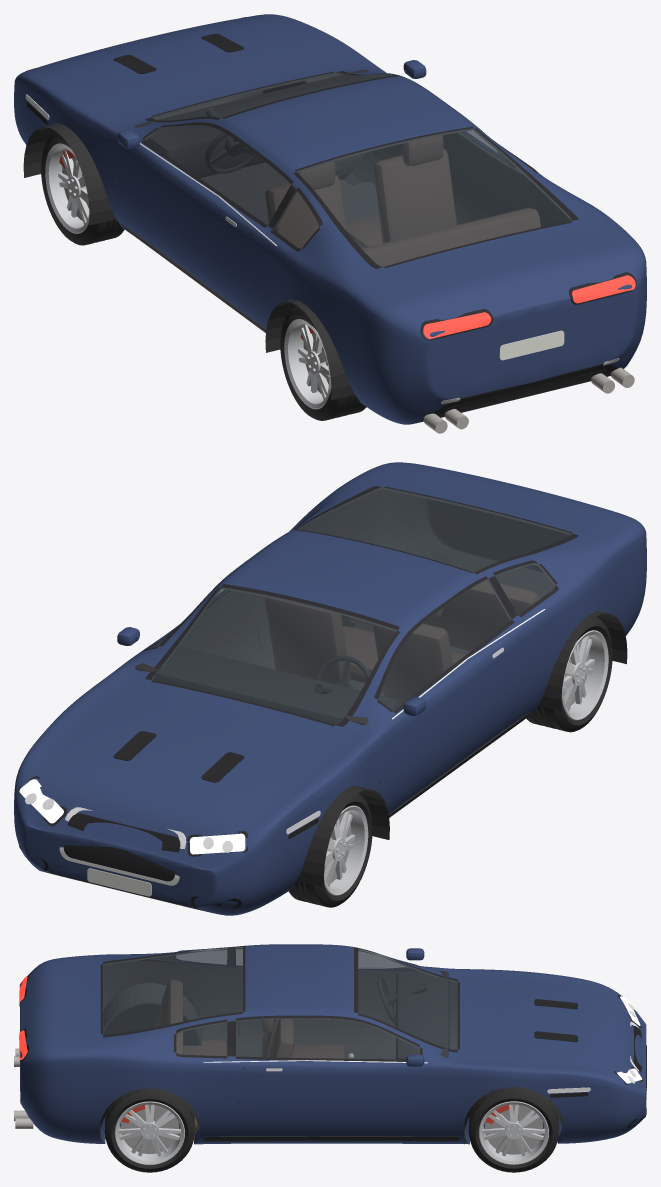
Rendered from 05_meridian_gt.glb.
3 views of the same model, one above another, from view 1: azimuth 30°, elevation 25°; view 2: azimuth 150°, elevation 25°; view 3: azimuth 270°, elevation 25° (orthographic). The views are drawn at different scales.
Visible parts, largest first — view 1: Body.010, Glass.010, Interior.010, Interior_Shell.009, ArchLiners.009, Wheel_RL.010, Wheel_FL.010, Lights_Tail.010, Diffuser.002, Plate_Rear.009, SteeringWheel.010, Lights_Tail_Housing.008 (+4 smaller); view 2: Body.010, Glass.010, Interior.010, Interior_Shell.009, ArchLiners.009, Wheel_RL.010, Wheel_FL.010, Grille_Main.002, Lights_Head.010, Plate_Front.006, Grille_Surround.001, SteeringWheel.010 (+3 smaller); view 3: Body.010, Glass.010, Interior_Shell.009, Interior.010, Wheel_RR.010, Wheel_FR.010, ArchLiners.009, SideSkirt.003, SteeringWheel.010, Mirror_Housing.009, Lights_Head.010, Lights_Tail.010.
Part boxes in pixels (x1,y1,x2,y2): Body.010: (14,14,646,424); Glass.010: (144,72,571,266); Interior.010: (135,70,540,266); Interior_Shell.009: (144,72,571,229); ArchLiners.009: (23,81,354,400); Wheel_RL.010: (280,306,366,420); Wheel_FL.010: (41,131,124,245); Lights_Tail.010: (423,275,635,338); Diffuser.002: (440,369,606,417); Plate_Rear.009: (499,330,564,360); SteeringWheel.010: (205,108,256,173); Lights_Tail_Housing.008: (420,272,636,340); Body.010: (14,462,646,915); Glass.010: (145,487,570,724); Interior.010: (135,580,539,724); Interior_Shell.009: (151,487,570,699); ArchLiners.009: (297,611,627,887); Wheel_RL.010: (526,617,612,732); Wheel_FL.010: (288,793,372,907); Grille_Main.002: (63,813,180,881); Lights_Head.010: (19,779,245,854); Plate_Front.006: (87,868,151,896); Grille_Surround.001: (59,807,186,885); SteeringWheel.010: (314,655,369,694); Body.010: (20,944,646,1144); Glass.010: (103,946,457,1059); Interior_Shell.009: (103,947,564,1142); Interior.010: (154,971,449,1130); Wheel_RR.010: (105,1091,194,1172); Wheel_FR.010: (469,1092,558,1172); ArchLiners.009: (99,1004,563,1144); SideSkirt.003: (203,1136,459,1141); SteeringWheel.010: (377,976,427,1024); Mirror_Housing.009: (406,948,424,1066); Lights_Head.010: (617,996,642,1083); Lights_Tail.010: (19,976,27,1059).
Size of what is drawn, in the model's own units: 2.06 by 1.28 by 4.94.
